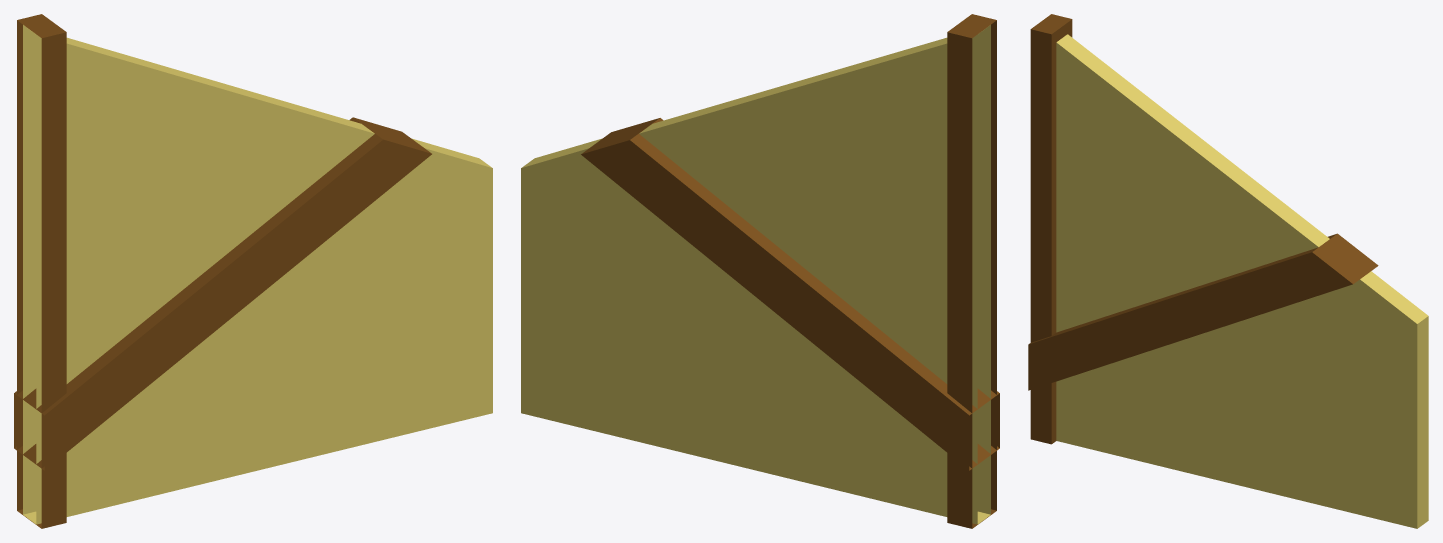
File: House_walltop.fbx
The picture shows the model from 3 angles, left to right: view 1: azimuth 30°, elevation 25°; view 2: azimuth 150°, elevation 25°; view 3: azimuth 330°, elevation 25°; orthographic projection. The views are drawn at different scales.
Parts seen in each view (by area): view 1: WallTop; view 2: WallTop; view 3: WallTop.
Boxes of the visible parts, x1,y1,x2,y2 form: WallTop: [14, 14, 492, 528]; WallTop: [521, 14, 999, 528]; WallTop: [1028, 14, 1428, 528].
Bounding box in the file's own units: 390 × 401 × 45.59.
